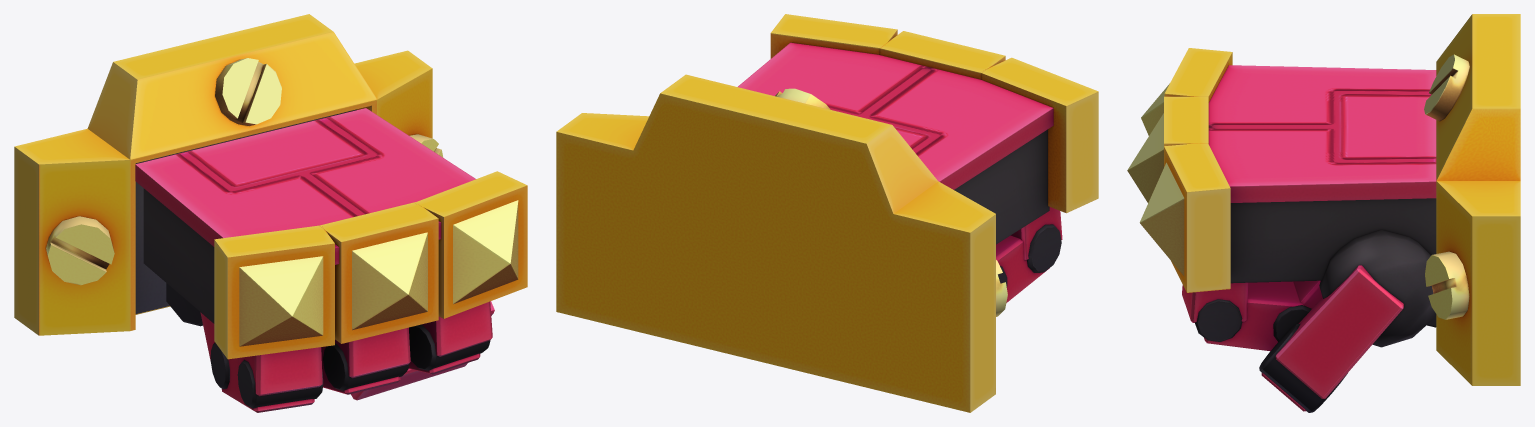
Rendered from front_fist_3.fbx.
3 renders of one model, left to right at view 1: azimuth 30°, elevation 25°; view 2: azimuth 150°, elevation 25°; view 3: azimuth 270°, elevation 25°, orthographic. The views are drawn at different scales.
Parts seen in each view (by area): view 1: Cube.096, Cube.093; view 2: Cube.093, Cube.096; view 3: Cube.096, Cube.093.
Boxes of the visible parts, box(x1,y1,x2,y2) form: Cube.096: box(135, 108, 527, 412); Cube.093: box(14, 14, 443, 335); Cube.093: box(556, 74, 1007, 412); Cube.096: box(738, 14, 1098, 302); Cube.096: box(1127, 48, 1436, 412); Cube.093: box(1424, 14, 1520, 385).
Bounding box in the file's own units: 132 × 96.39 × 114.
